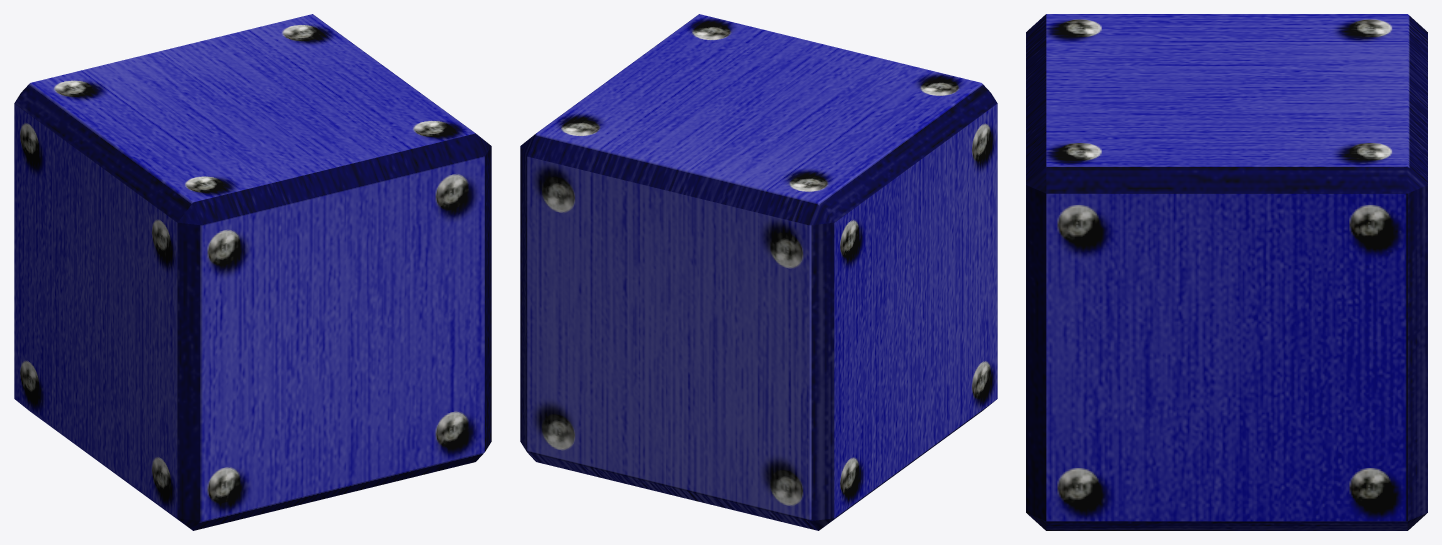
File: Box_1_1x1x1_blue.obj
The picture shows the model from 3 angles, left to right: view 1: azimuth 30°, elevation 25°; view 2: azimuth 150°, elevation 25°; view 3: azimuth 270°, elevation 25°; orthographic projection. The views are drawn at different scales.
Visible parts, largest first — view 1: default; view 2: default; view 3: default.
Part boxes in pixels (x1,y1,x2,y2): default: (14,14,491,530); default: (520,14,997,530); default: (1026,14,1427,530).
Size of the model in its own units: 1 by 1 by 1.
